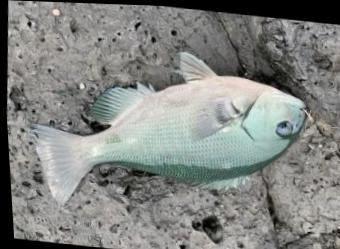fish: (23, 48, 311, 204)
